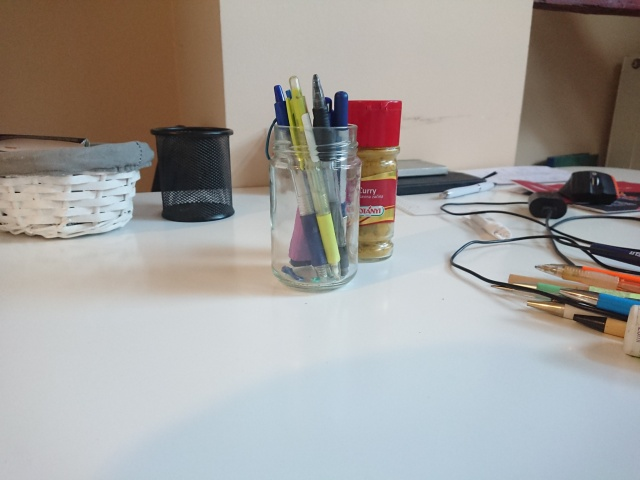Kotanyi Curry Spices Mix 70g: (337, 98, 405, 266)
